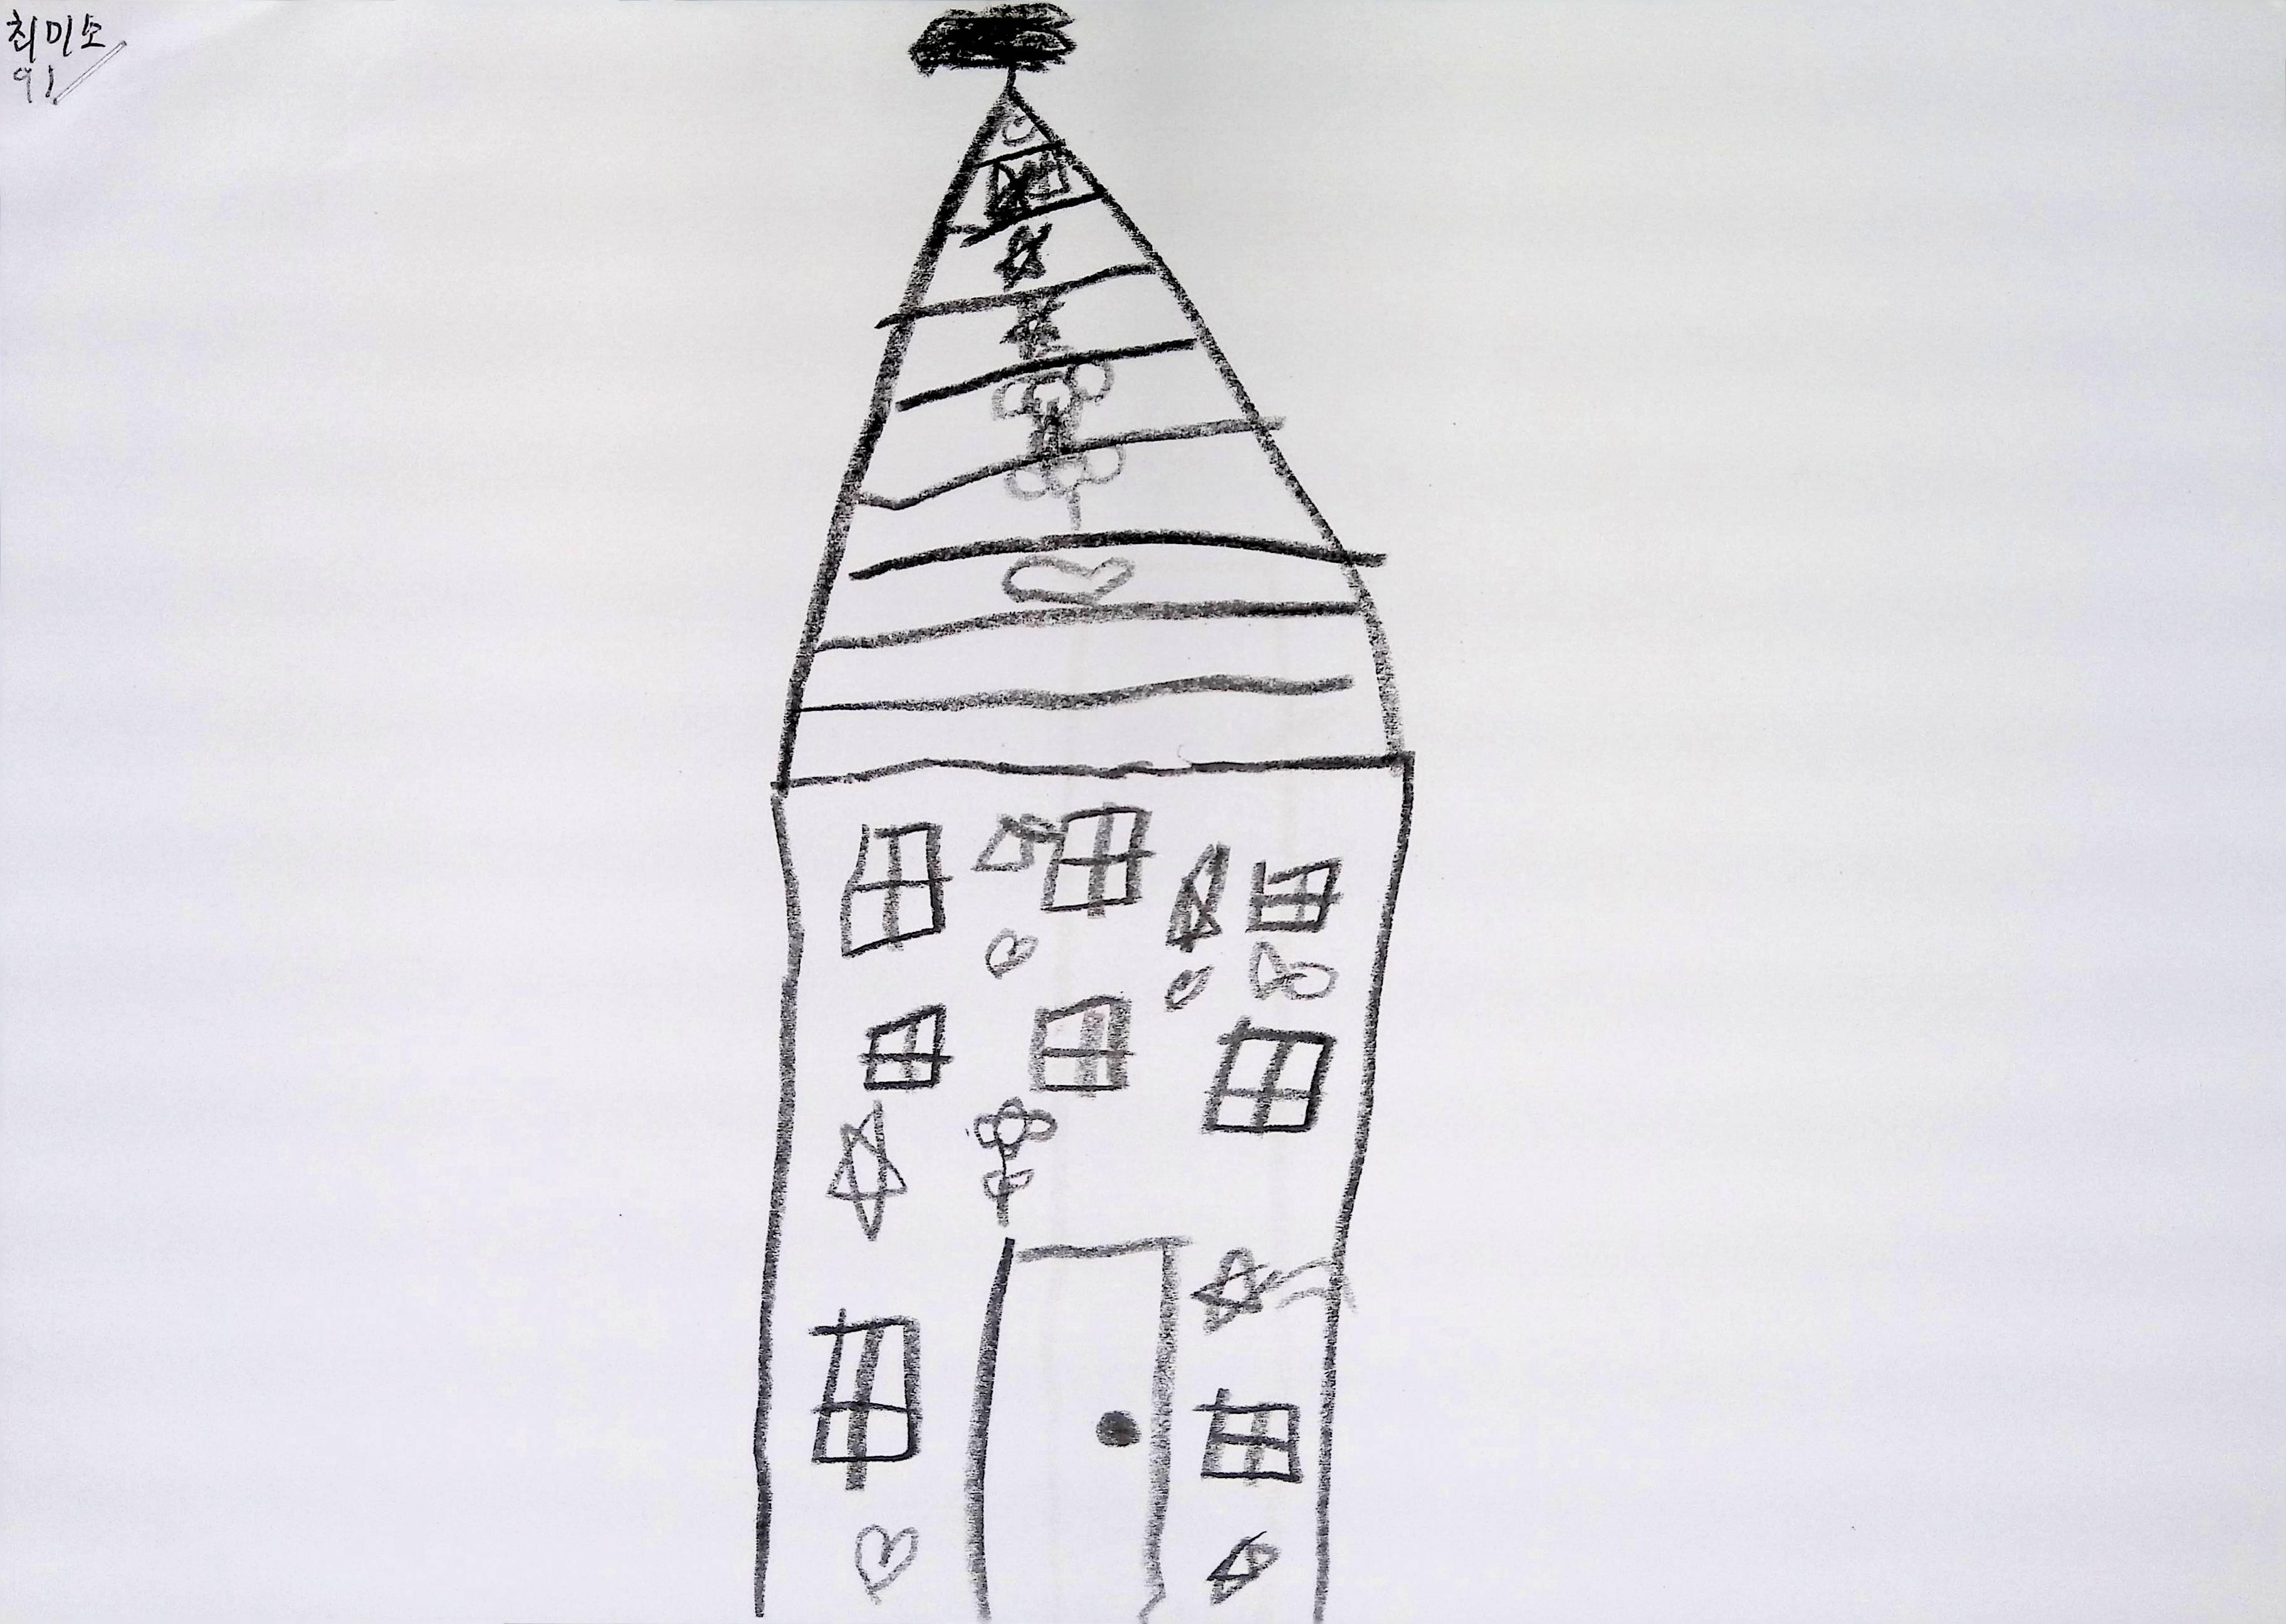door: (959, 1232, 1190, 1624)
roof: (771, 69, 1430, 793)
wall: (743, 763, 1416, 1624)
window: (752, 81, 1414, 1624), (810, 1309, 921, 1489), (1204, 1016, 1337, 1134), (840, 821, 947, 954), (1040, 796, 1156, 909), (1030, 995, 1130, 1093), (1198, 1388, 1302, 1483), (859, 1004, 951, 1090), (1249, 856, 1342, 932)
